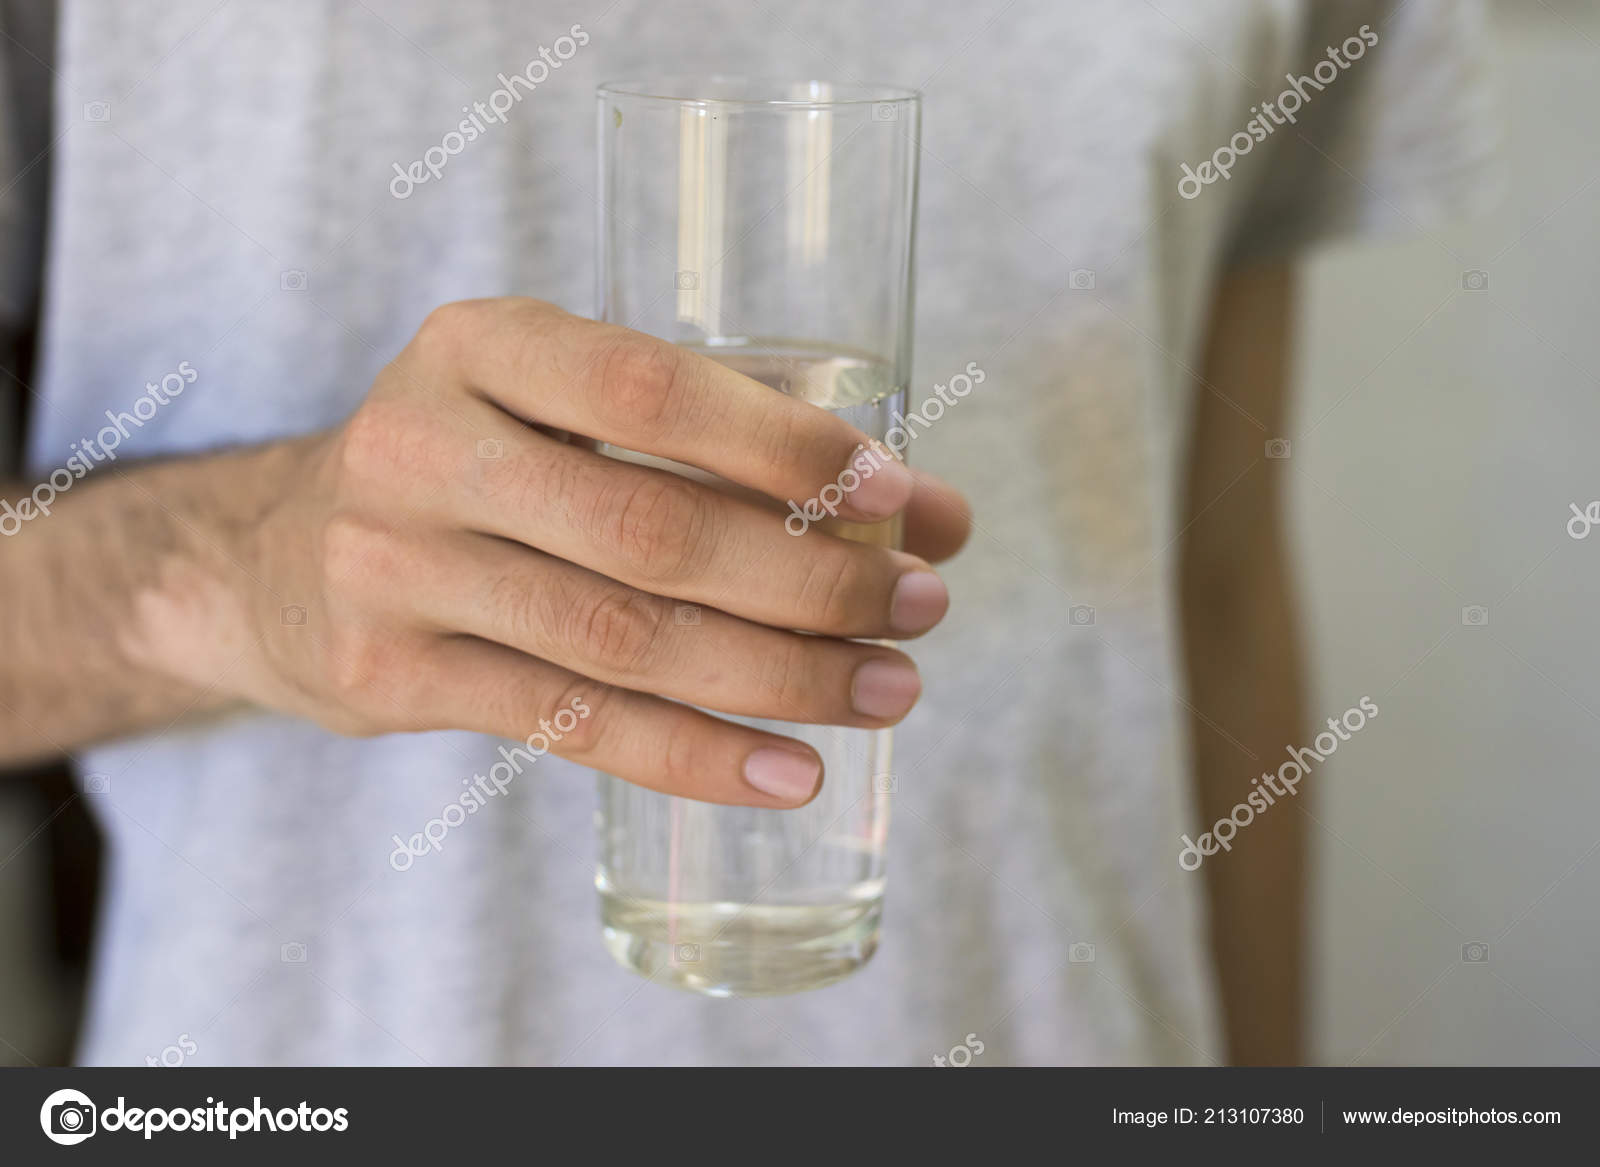glass of water: (629, 94, 884, 987)
